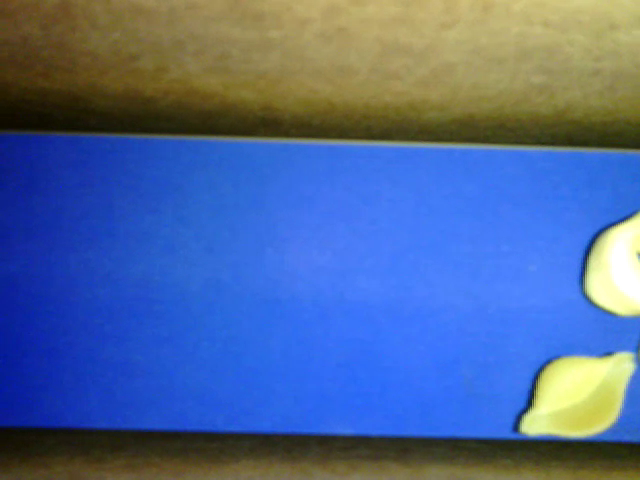shell: (518, 349, 634, 441)
tortellini: (581, 210, 639, 316)
